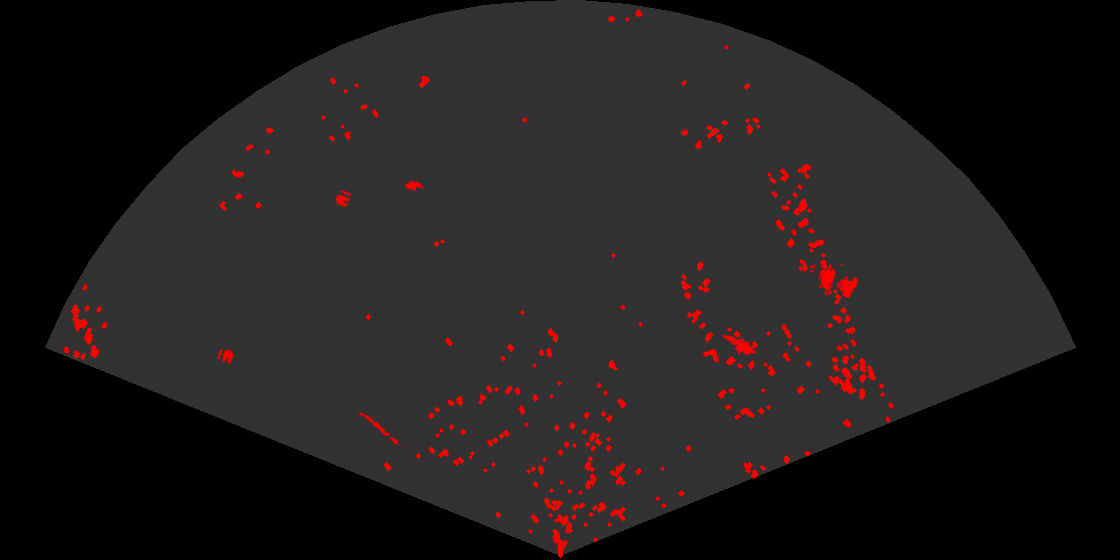AUV: (403, 178, 426, 192)
ball: (334, 188, 353, 209), (216, 347, 236, 365)
cage: (810, 264, 860, 300)
chain: (356, 408, 404, 447)
frogman: (720, 333, 756, 357)
